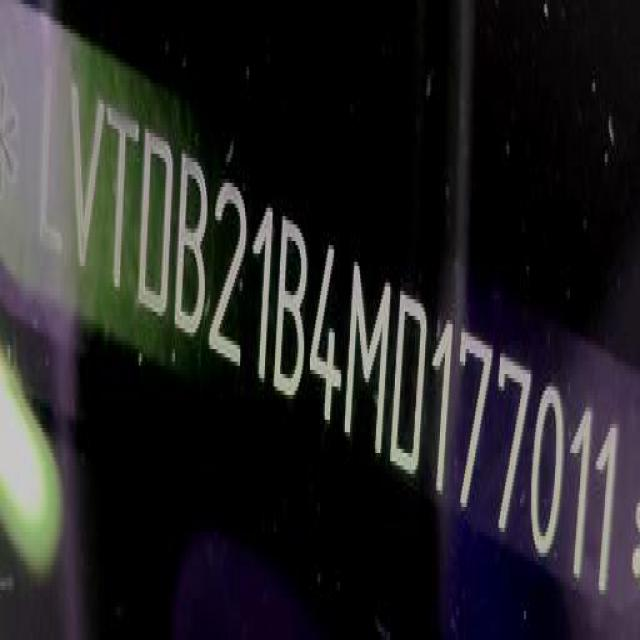0: (527, 371, 569, 566)
1: (592, 409, 624, 606), (564, 398, 594, 593), (428, 309, 456, 504), (251, 199, 275, 386)
2: (208, 177, 248, 373)
4: (308, 240, 347, 430)
7: (450, 323, 492, 526), (492, 349, 533, 550)
B: (273, 212, 310, 400), (174, 153, 210, 345)
D: (388, 284, 431, 486), (136, 124, 173, 318)
L: (39, 74, 70, 264)
M: (343, 262, 391, 464)
T: (103, 101, 140, 303)
V: (68, 82, 105, 278)
